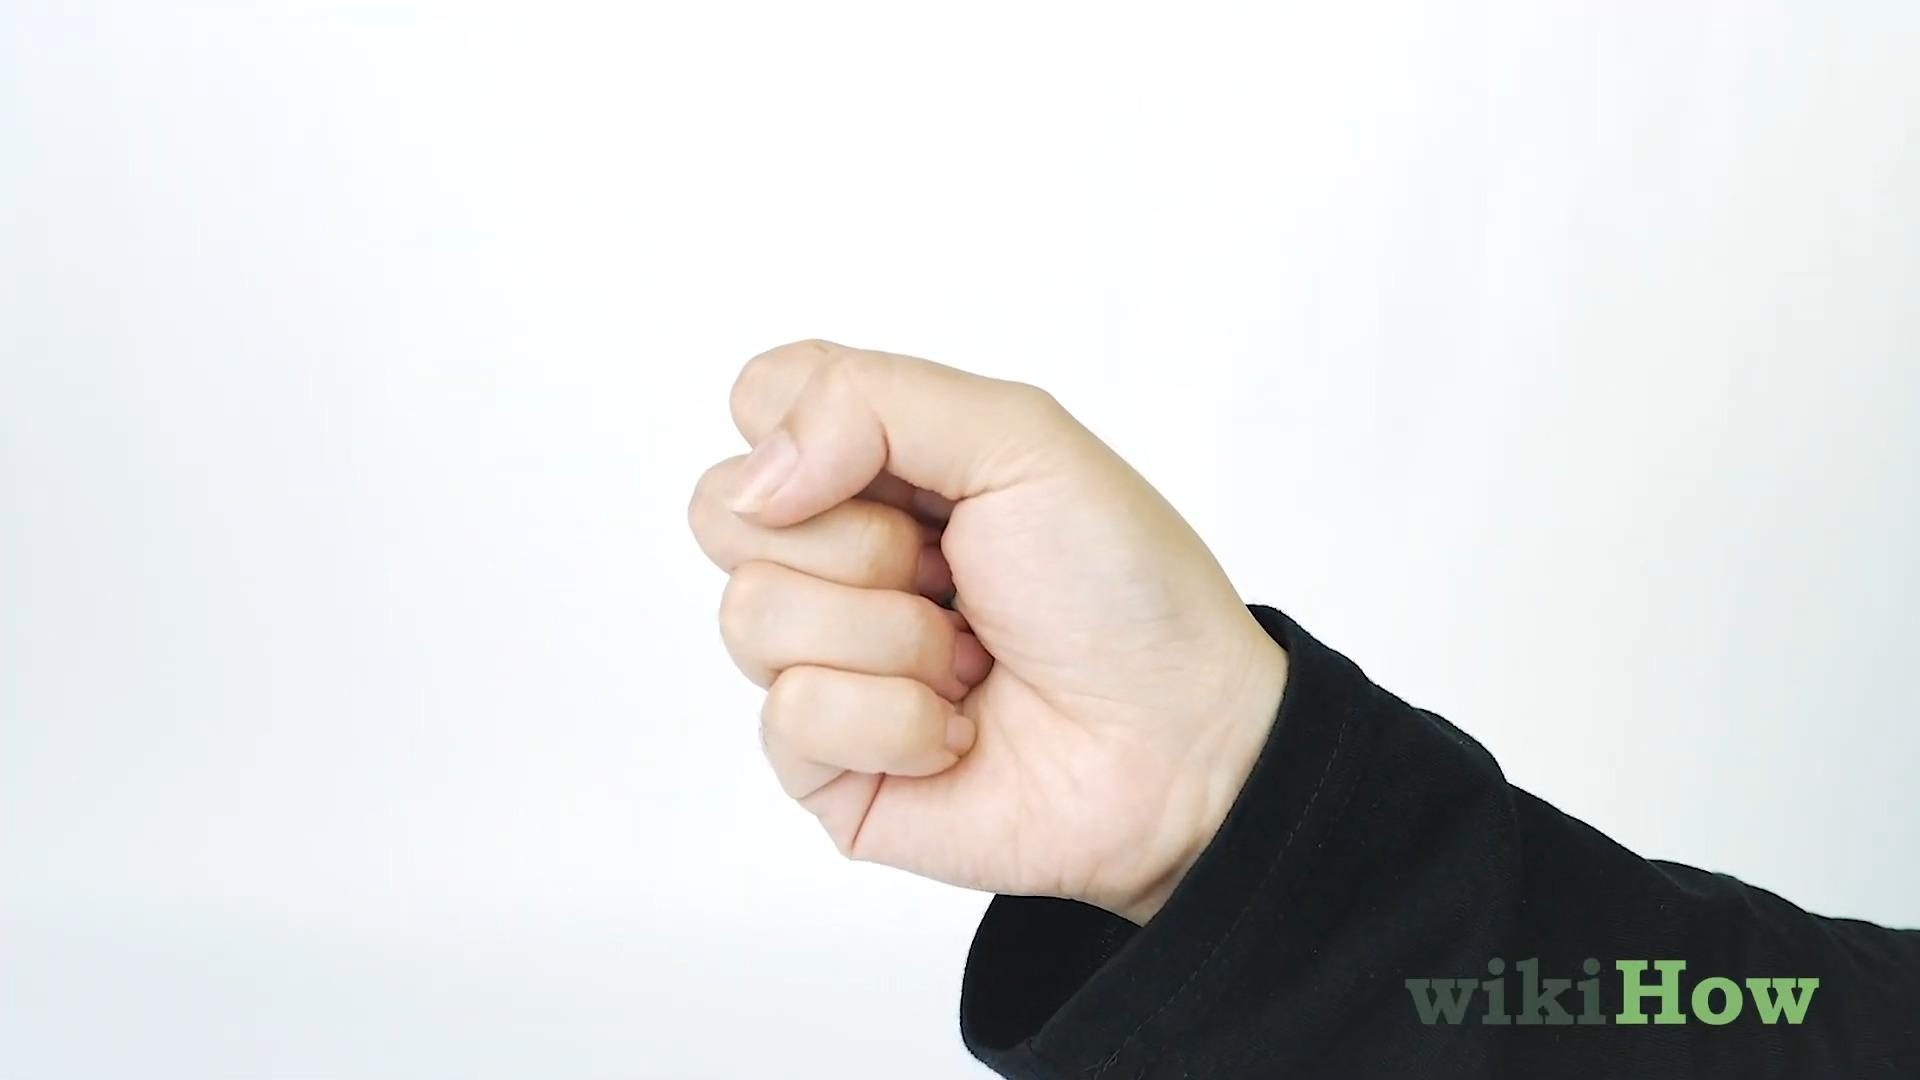Rock: (690, 332, 1228, 903)
